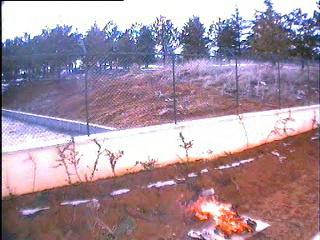fire: (184, 194, 254, 237)
